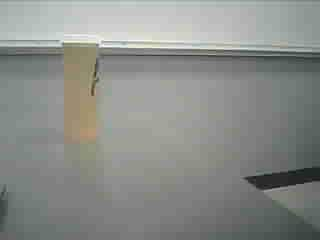Bottle A: (52, 28, 109, 146)
